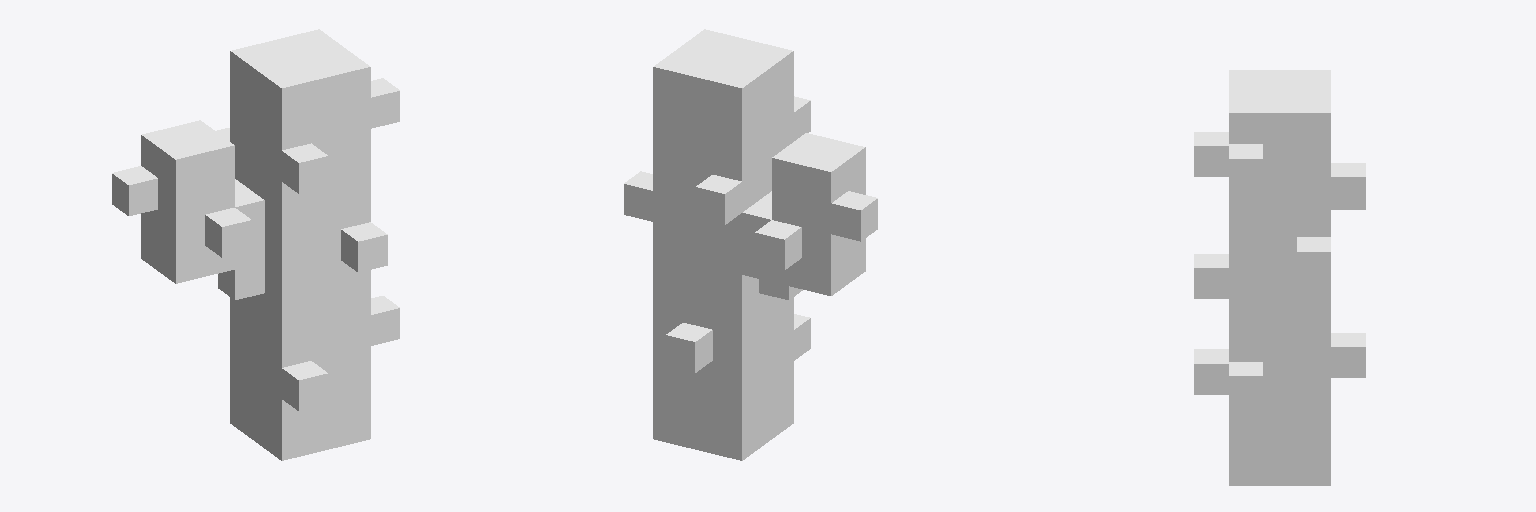
The model's file is Cactus1-0.obj.
The picture shows the model from 3 angles: view 1: azimuth 30°, elevation 25°; view 2: azimuth 150°, elevation 25°; view 3: azimuth 270°, elevation 25°; orthographic projection.
Visible parts, largest first — view 1: object 1; view 2: object 1; view 3: object 1.
Boxes of the visible parts, <box> form: object 1: <box>112,29,399,460</box>; object 1: <box>624,29,877,460</box>; object 1: <box>1194,70,1365,485</box>.
Size of the model in its own units: 0.8 by 1.2 by 0.5.